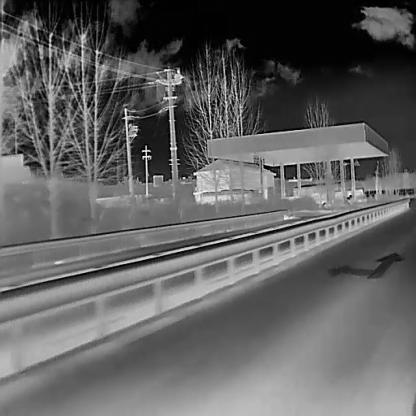bus: (199, 188, 255, 206), (333, 186, 366, 202)
